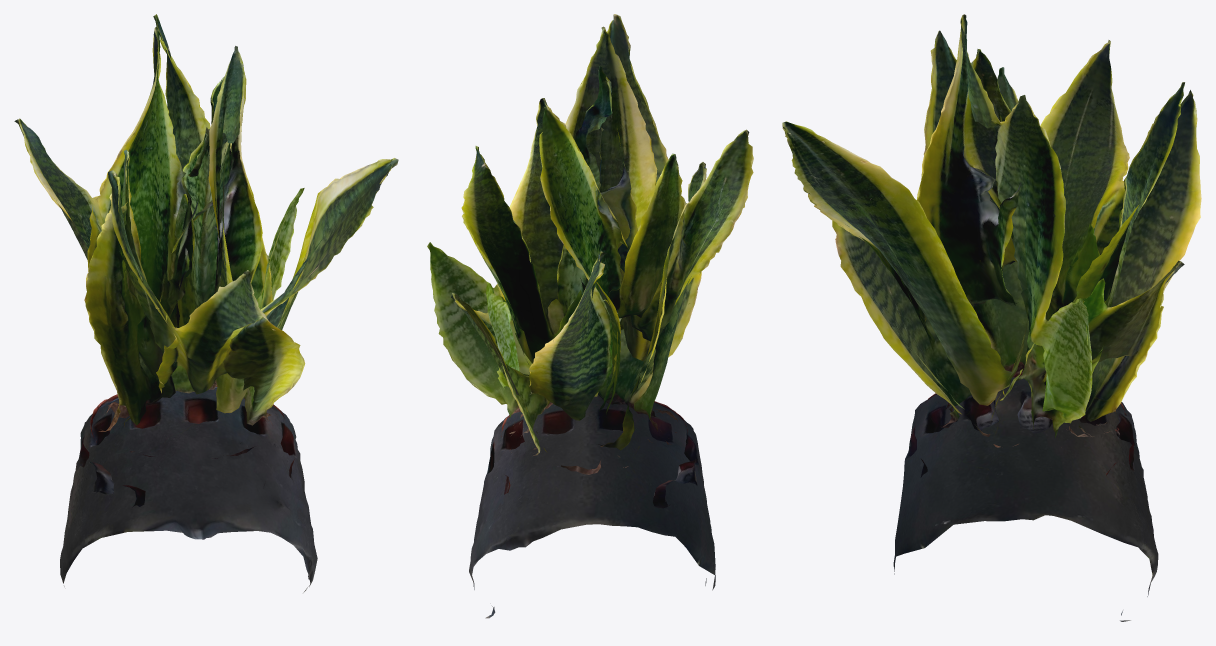
Rendered from indoor_snake_plant.glb.
The picture shows the model from 3 angles, left to right: view 1: azimuth 30°, elevation 25°; view 2: azimuth 150°, elevation 25°; view 3: azimuth 270°, elevation 25°; orthographic projection. The views are drawn at different scales.
Parts seen in each view (by area): view 1: Object_4; view 2: Object_4; view 3: Object_4.
Part boxes in pixels (<box>): Object_4: <box>14,14,398,592</box>; Object_4: <box>427,14,753,618</box>; Object_4: <box>782,14,1201,621</box>.
Bounding box in the file's own units: 0.2167 × 0.4384 × 0.2856.
Materials: 1 (1 with a texture image).
